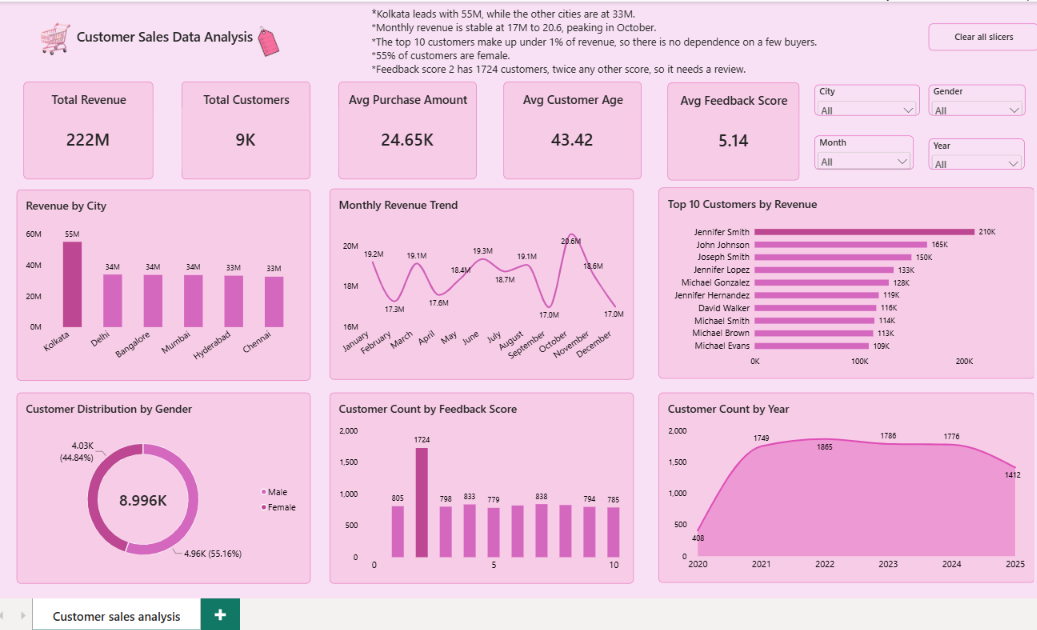

Layout of this report page (visuals, bound fields, positions):
{"tool":"powerbi","page":{"name":"Customer sales analysis","canvas":[1920,1080],"ordinal":0},"visuals":[{"type":"cardVisual","title":"Total Revenue","fields":{"Data":["Cleaned_Customer_data_with_python.Total Revenue"]},"box":[47.1,144.8,234.7,176.5],"z":0},{"type":"textbox","box":[143,47.1,328.5,48.8],"z":1000},{"type":"cardVisual","title":"Total Customers","fields":{"Data":["Cleaned_Customer_data_with_python.Total Customers"]},"box":[333,144.8,232.8,176.5],"z":2000},{"type":"cardVisual","title":"Avg Purchase Amount","fields":{"Data":["Cleaned_Customer_data_with_python.Avg Purchase Amount"]},"box":[617.1,144.8,249.7,176.5],"z":3000},{"type":"cardVisual","title":"Avg Customer Age","fields":{"Data":["Cleaned_Customer_data_with_python.Avg Customer Age"]},"box":[915.7,144.8,249.7,176.5],"z":4000},{"type":"cardVisual","title":"Avg Feedback Score","fields":{"Data":["Cleaned_Customer_data_with_python.Avg Feedback Score"]},"box":[1212.5,146.6,238.4,176.5],"z":5000},{"type":"columnChart","title":"Revenue by City","fields":{"Category":["Cleaned_Customer_data_with_python.City"],"Y":["Sum(Cleaned_Customer_data_with_python.Purchase_Amount)"]},"box":[34.4,340.2,532,345.6],"z":6000},{"type":"donutChart","title":"Customer Distribution by Gender","fields":{"Category":["Cleaned_Customer_data_with_python.Gender"],"Y":["CountNonNull(Cleaned_Customer_data_with_python.Customer_ID)"]},"box":[34.4,707.6,532,345.6],"z":7000},{"type":"lineChart","title":"Monthly Revenue Trend","fields":{"Category":["Cleaned_Customer_data_with_python.Last_Purchase_Date.Variation.Date Hierarchy.Month","Cleaned_Customer_data_with_python.Last_Purchase_Date.Variation.Date Hierarchy.Day"],"Y":["Sum(Cleaned_Customer_data_with_python.Purchase_Amount)"]},"box":[600.8,338.4,550.1,345.6],"z":8000},{"type":"columnChart","title":"Customer Count by Feedback Score","fields":{"Category":["Cleaned_Customer_data_with_python.Feedback_Score"],"Y":["CountNonNull(Cleaned_Customer_data_with_python.Customer_ID)"]},"box":[600.8,707.6,550.1,345.6],"z":9000},{"type":"barChart","title":"Top 10 Customers by Revenue","fields":{"Category":["Cleaned_Customer_data_with_python.Name","Cleaned_Customer_data_with_python.Customer_ID"],"Y":["Sum(Cleaned_Customer_data_with_python.Purchase_Amount)"]},"box":[1196.2,336.6,680.4,345.6],"z":10000},{"type":"areaChart","title":"Customer Count by Year","fields":{"Category":["Cleaned_Customer_data_with_python.Signup_Date.Variation.Date Hierarchy.Year","Cleaned_Customer_data_with_python.Signup_Date.Variation.Date Hierarchy.Quarter","Cleaned_Customer_data_with_python.Signup_Date.Variation.Date Hierarchy.Month","Cleaned_Customer_data_with_python.Signup_Date.Variation.Date Hierarchy.Day"],"Y":["CountNonNull(Cleaned_Customer_data_with_python.Customer_ID)"]},"box":[1196.2,707.6,680.4,343.8],"z":11000},{"type":"slicer","fields":{"Values":["Cleaned_Customer_data_with_python.City"]},"box":[1478.5,150.2,190,56.1],"z":12000},{"type":"slicer","fields":{"Values":["Cleaned_Customer_data_with_python.Gender"]},"box":[1684.8,150.2,175.5,56.1],"z":13000},{"type":"actionButton","box":[1684.8,39.8,200.9,48.8],"z":14000},{"type":"image","box":[427.1,39.8,126.7,65.1],"z":15000},{"type":"image","box":[59.7,25.3,83.2,77.8],"z":16000},{"type":"slicer","fields":{"Values":["Cleaned_Customer_data_with_python.Last_Purchase_Date.Variation.Date Hierarchy.Month"]},"box":[1478.5,242.5,179.2,61.5],"z":16001},{"type":"slicer","fields":{"Values":["Cleaned_Customer_data_with_python.Last_Purchase_Date.Variation.Date Hierarchy.Year"]},"box":[1684.8,247.9,173.7,56.1],"z":16002},{"type":"textbox","box":[676.8,5.4,843.3,139.3],"z":16005}]}

Visuals, with their boxes on the page's 1920x1080 design canvas (x1, y1, x2, y2). These are canvas units, not pixel positions in the 1037x630 screenshot, which may show the page scaled, cropped or inside an application window:
"Total Revenue" cardVisual: <region>47, 145, 282, 321</region>
textbox: <region>143, 47, 472, 96</region>
"Total Customers" cardVisual: <region>333, 145, 566, 321</region>
"Avg Purchase Amount" cardVisual: <region>617, 145, 867, 321</region>
"Avg Customer Age" cardVisual: <region>916, 145, 1165, 321</region>
"Avg Feedback Score" cardVisual: <region>1212, 147, 1451, 323</region>
"Revenue by City" columnChart: <region>34, 340, 566, 686</region>
"Customer Distribution by Gender" donutChart: <region>34, 708, 566, 1053</region>
"Monthly Revenue Trend" lineChart: <region>601, 338, 1151, 684</region>
"Customer Count by Feedback Score" columnChart: <region>601, 708, 1151, 1053</region>
"Top 10 Customers by Revenue" barChart: <region>1196, 337, 1877, 682</region>
"Customer Count by Year" areaChart: <region>1196, 708, 1877, 1051</region>
slicer - Cleaned_Customer_data_with_python.City: <region>1478, 150, 1668, 206</region>
slicer - Cleaned_Customer_data_with_python.Gender: <region>1685, 150, 1860, 206</region>
actionButton: <region>1685, 40, 1886, 89</region>
image: <region>427, 40, 554, 105</region>
image: <region>60, 25, 143, 103</region>
slicer - Cleaned_Customer_data_with_python.Last_Purchase_Date.Variation.Date Hierarchy.Month: <region>1478, 242, 1658, 304</region>
slicer - Cleaned_Customer_data_with_python.Last_Purchase_Date.Variation.Date Hierarchy.Year: <region>1685, 248, 1858, 304</region>
textbox: <region>677, 5, 1520, 145</region>
